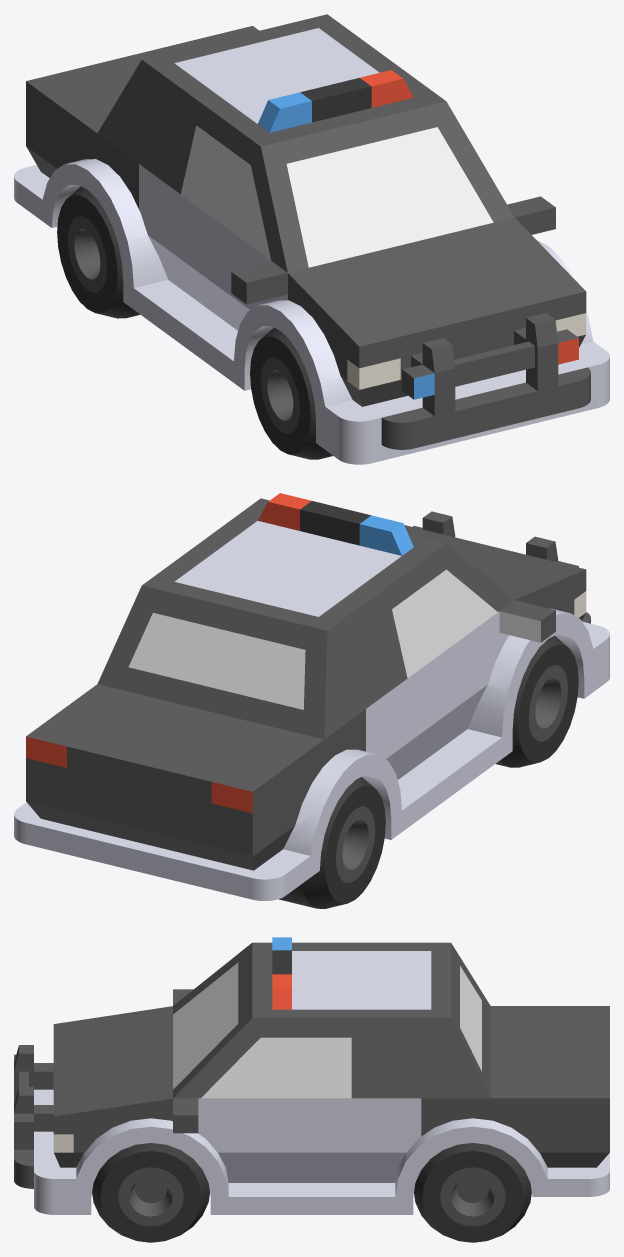
File: police.obj
3 renders of one model, top to bottom at view 1: azimuth 30°, elevation 25°; view 2: azimuth 150°, elevation 25°; view 3: azimuth 270°, elevation 25°, orthographic. The views are drawn at different scales.
Parts seen in each view (by area): view 1: body, grill, wheel_backRight, wheel_frontRight; view 2: body, wheel_backRight, wheel_frontRight, grill; view 3: body, wheel_backLeft, wheel_frontLeft, grill.
Boxes of the visible parts, left/top/right/bottom form: body: left=14, top=14, right=609, bottom=464; grill: left=381, top=312, right=590, bottom=449; wheel_backRight: left=57, top=186, right=140, bottom=318; wheel_frontRight: left=250, top=327, right=332, bottom=459; body: left=14, top=493, right=609, bottom=900; wheel_backRight: left=279, top=777, right=385, bottom=908; wheel_frontRight: left=495, top=635, right=578, bottom=767; grill: left=413, top=511, right=590, bottom=623; body: left=34, top=937, right=609, bottom=1214; wheel_backLeft: left=414, top=1143, right=531, bottom=1242; wheel_frontLeft: left=92, top=1143, right=209, bottom=1242; grill: left=14, top=1045, right=53, bottom=1188.
Bounding box in the file's own units: 1.12 × 0.975 × 2.25.
